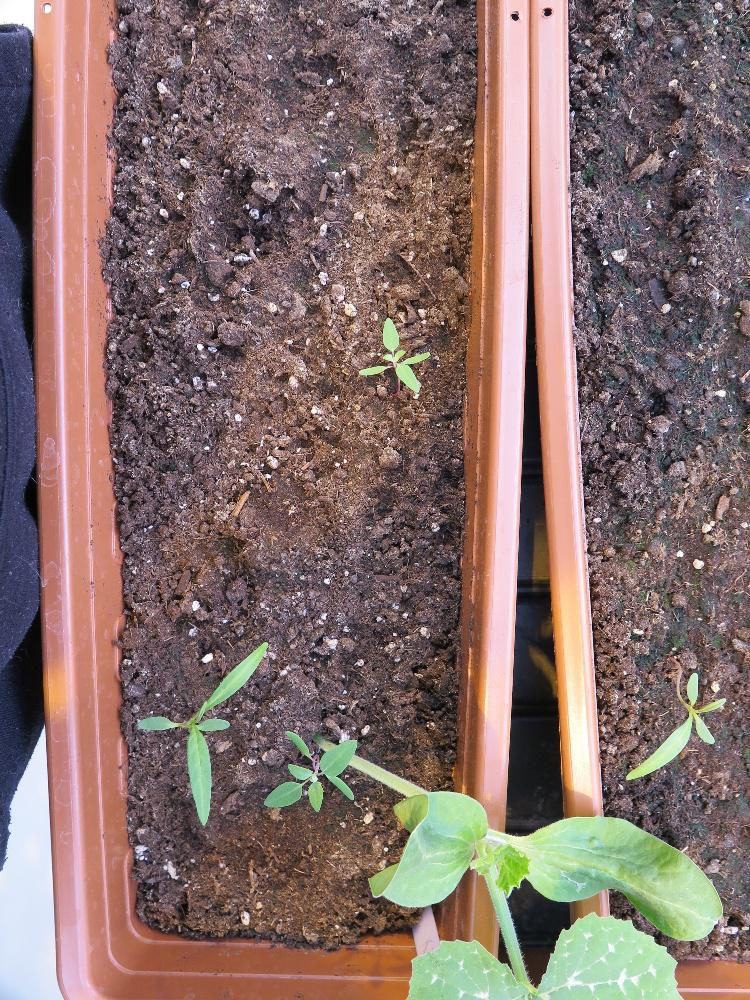weed: (623, 667, 726, 780), (356, 314, 431, 398)
